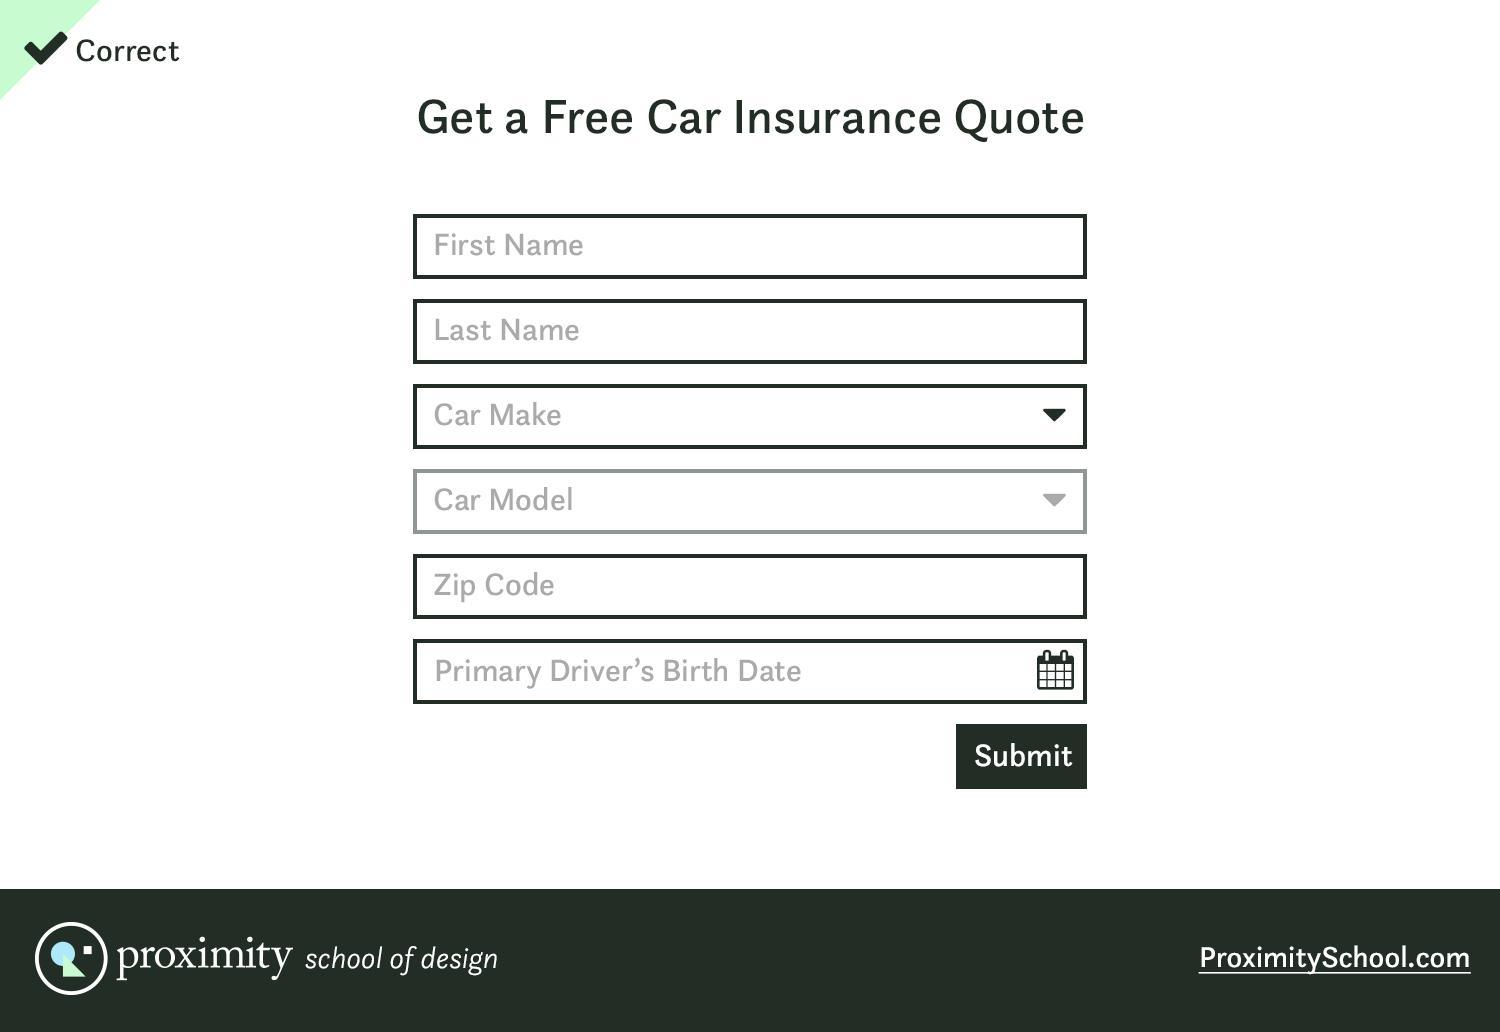button: (959, 723, 1090, 790)
dropdown: (417, 470, 1089, 539), (416, 385, 1087, 447)
input: (415, 553, 1085, 621), (414, 298, 1089, 365), (417, 213, 1086, 281), (414, 642, 1091, 707)
label: (419, 91, 1091, 148)
